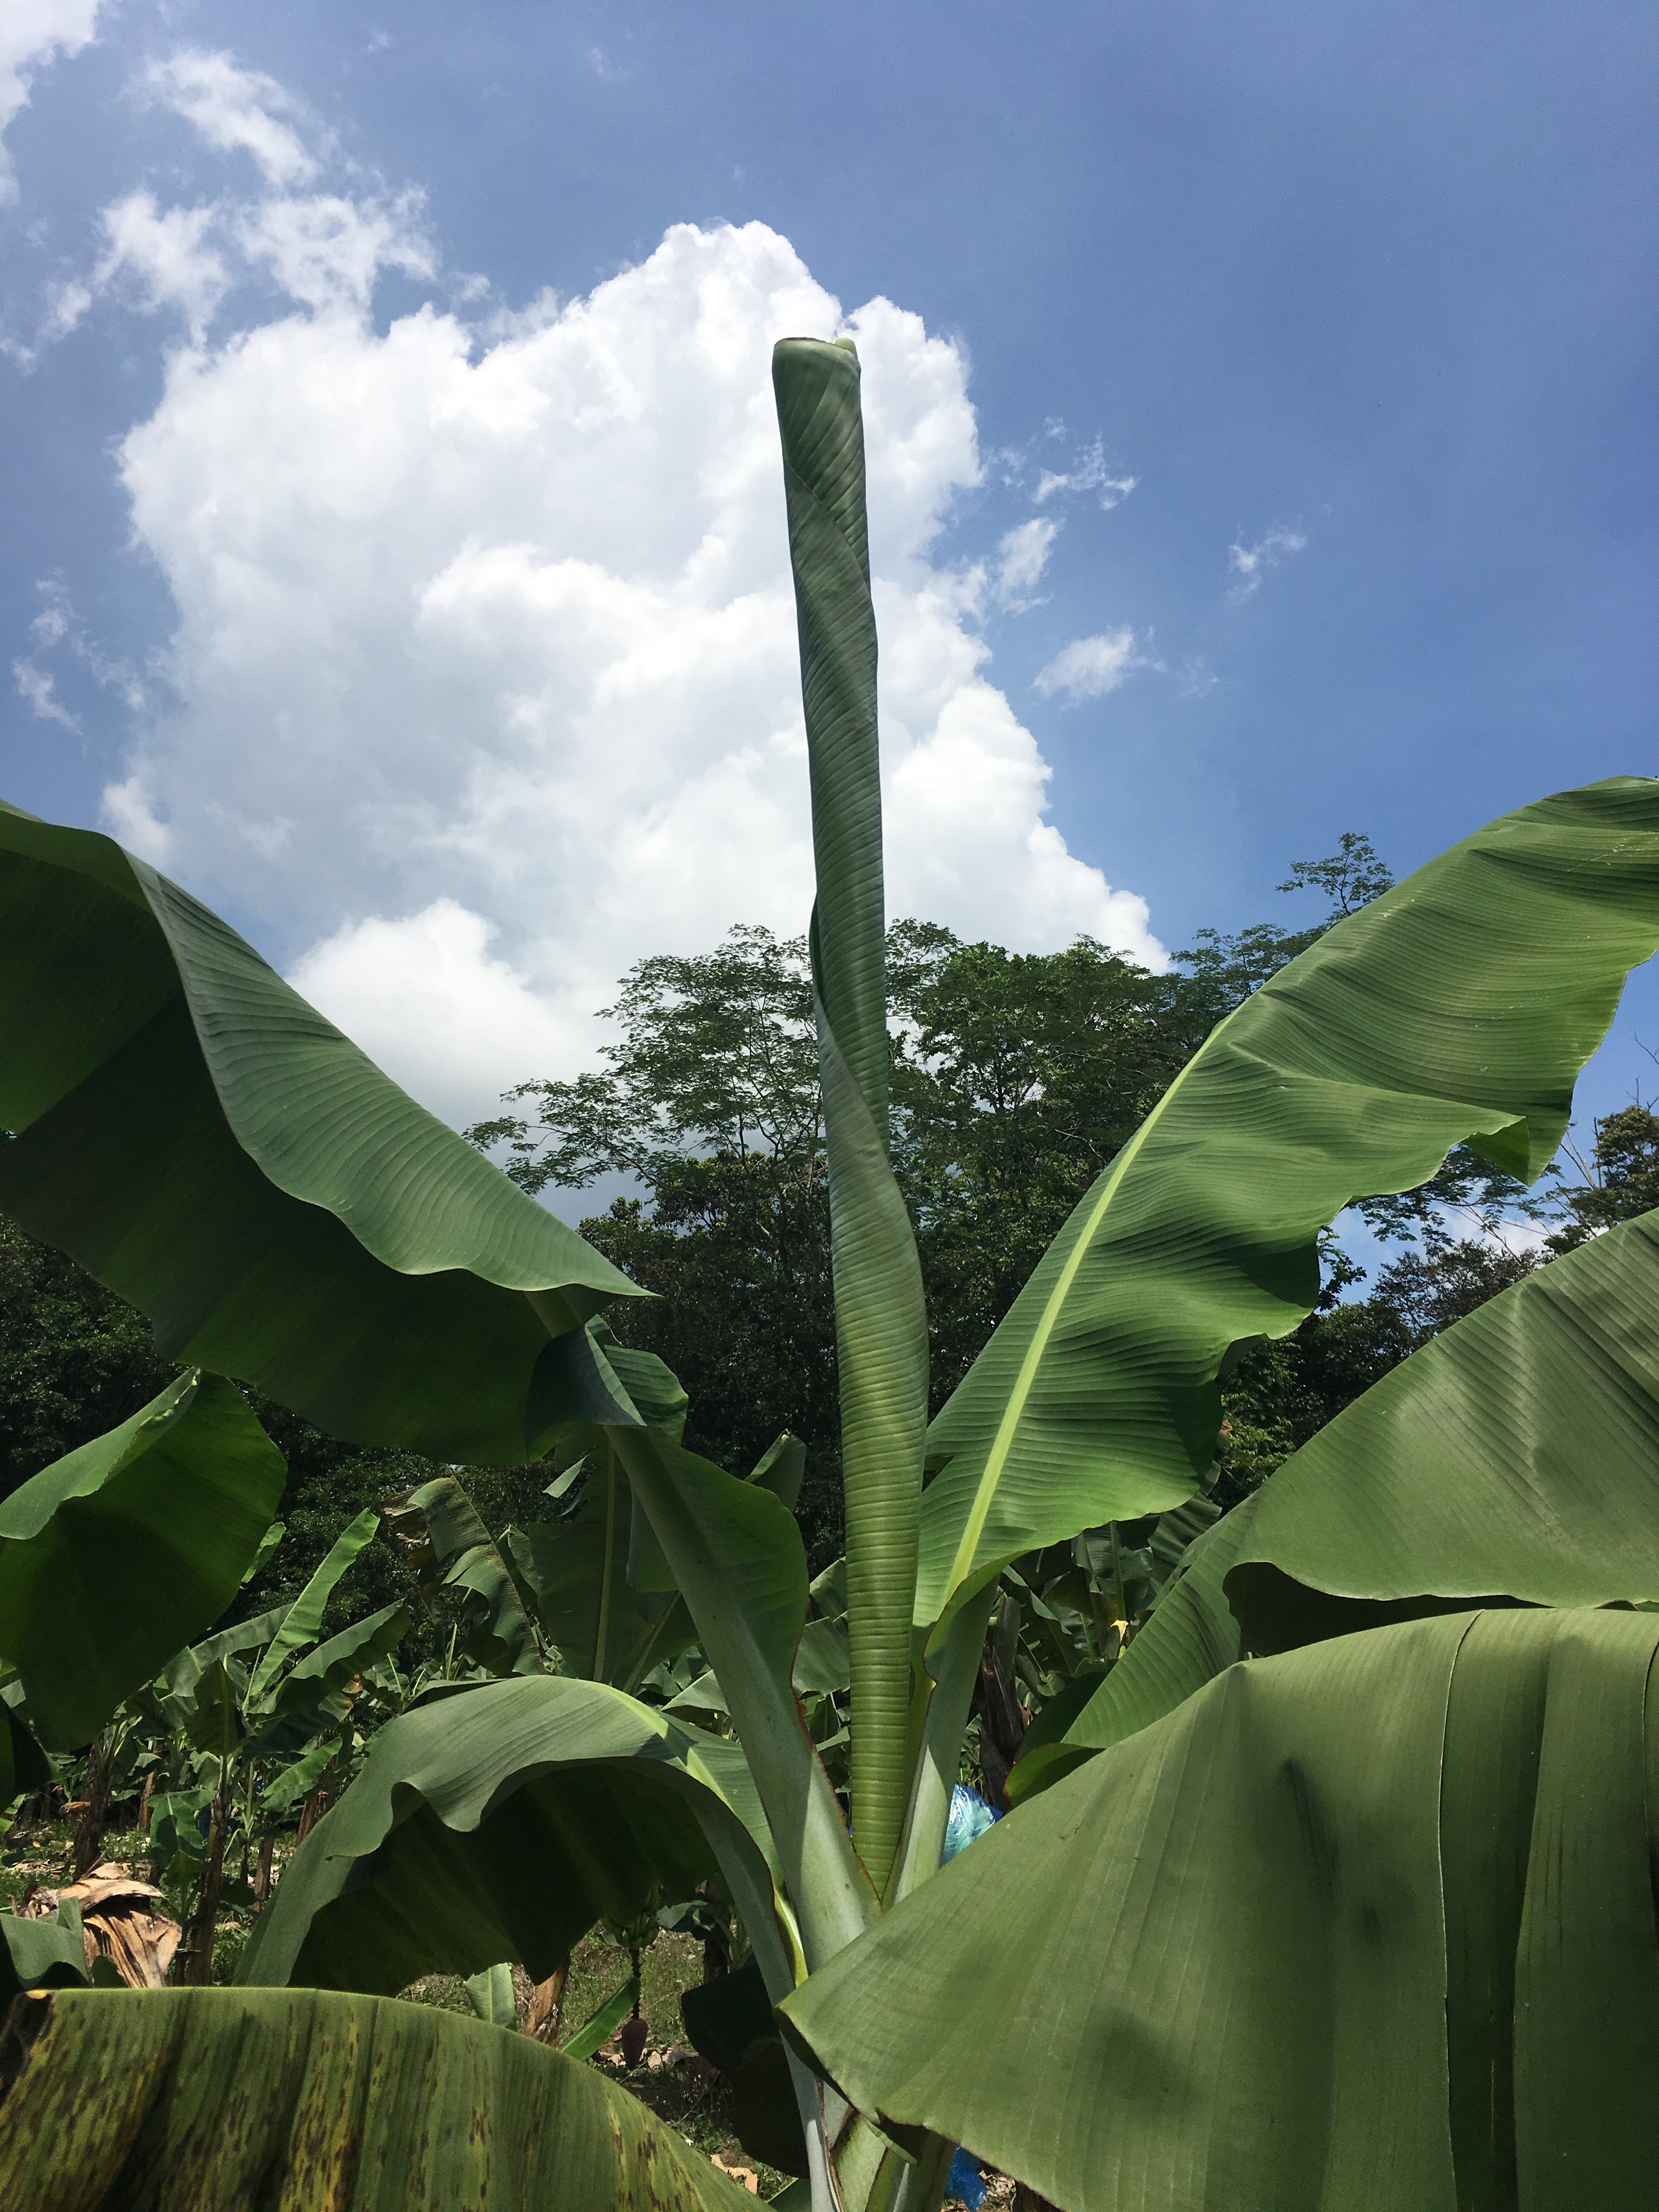candleleafs: (769, 333, 938, 1632)
